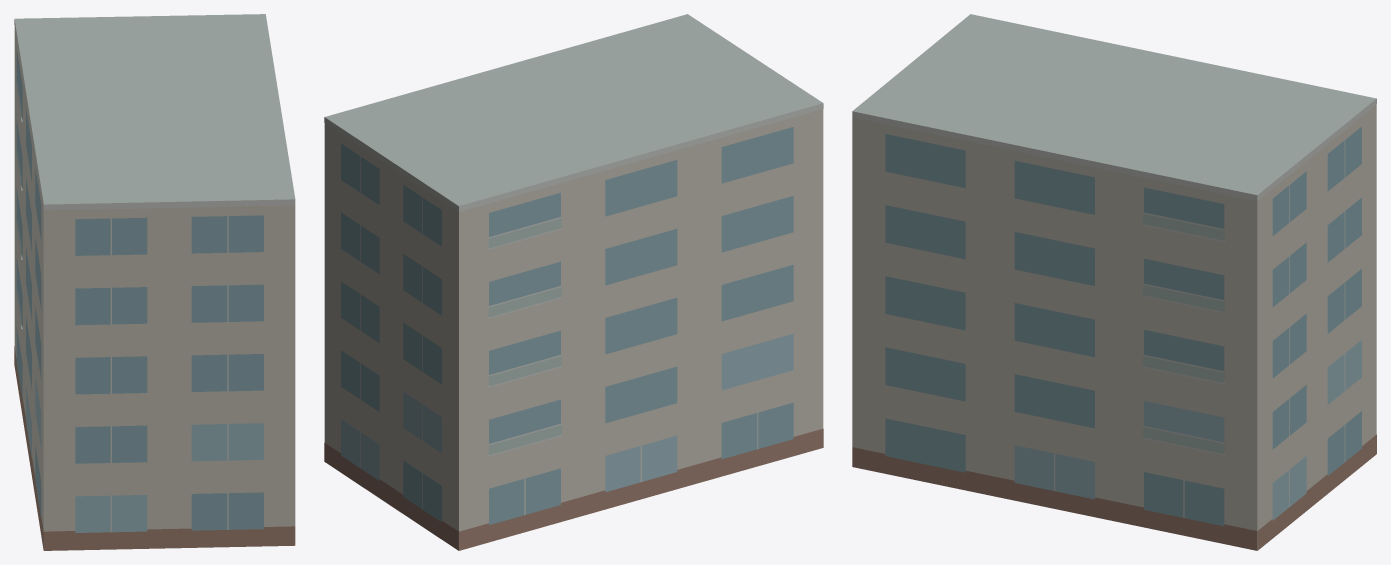
File: survey-upis-32884951.glb
3 renders of one model, left to right at view 1: azimuth 30°, elevation 25°; view 2: azimuth 150°, elevation 25°; view 3: azimuth 270°, elevation 25°, orthographic. The views are drawn at different scales.
Visible parts, largest first — view 1: survey-upis-32884951.tmp; view 2: survey-upis-32884951.tmp; view 3: survey-upis-32884951.tmp.
Part boxes in pixels (left/top/right/bottom): survey-upis-32884951.tmp: left=14, top=14, right=295, bottom=550; survey-upis-32884951.tmp: left=324, top=14, right=823, bottom=550; survey-upis-32884951.tmp: left=852, top=14, right=1376, bottom=550.
Bounding box in the file's own units: 15.75 × 14.4 × 19.26.
